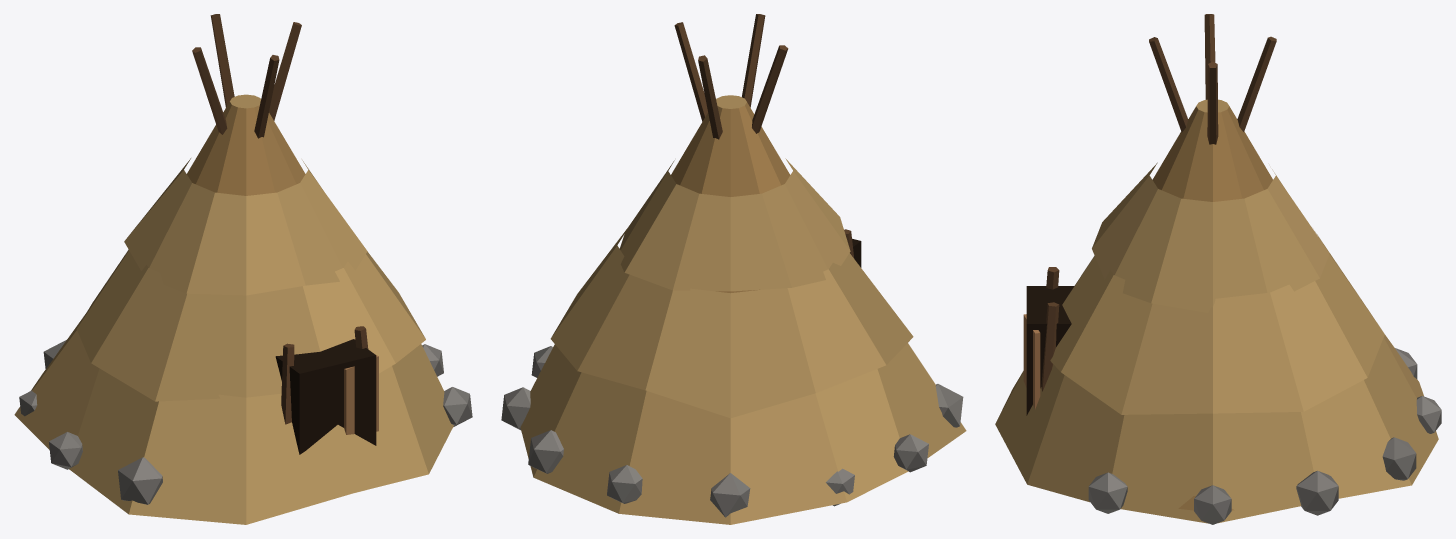
File: hut_cone.glb
3 renders of one model, left to right at view 1: azimuth 30°, elevation 25°; view 2: azimuth 150°, elevation 25°; view 3: azimuth 270°, elevation 25°, orthographic.
Visible parts, largest first — view 1: hut_cone; view 2: hut_cone; view 3: hut_cone.
Boxes of the visible parts, left/top/right/bottom form: hut_cone: left=14, top=14, right=472, bottom=524; hut_cone: left=501, top=14, right=966, bottom=524; hut_cone: left=995, top=14, right=1441, bottom=524.
Bounding box in the file's own units: 6.88 × 6.71 × 6.71.
